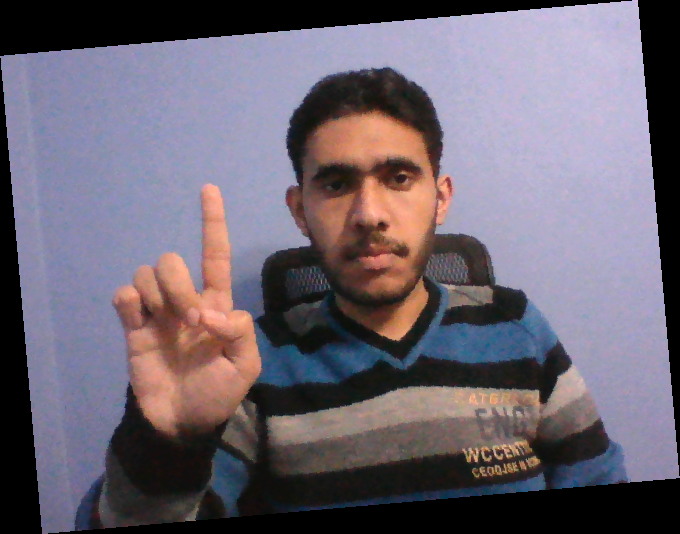D: (107, 181, 264, 439)
